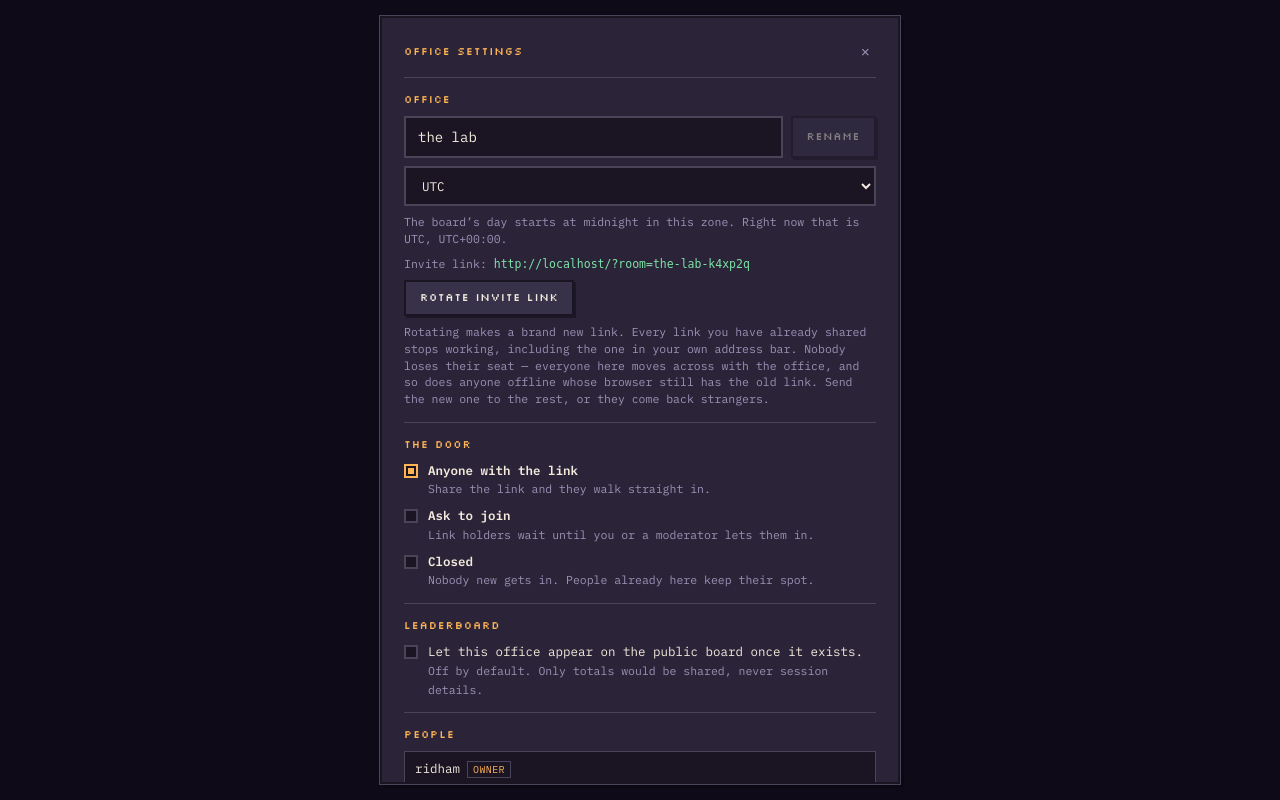
Test case: SettingsPanel › when the office says no › keeps a refusal in the section that asked, and out of the others
Step 1. Click the button "Rotate invite link" → click(489, 298), box x1=404 y1=280 x2=574 y2=316
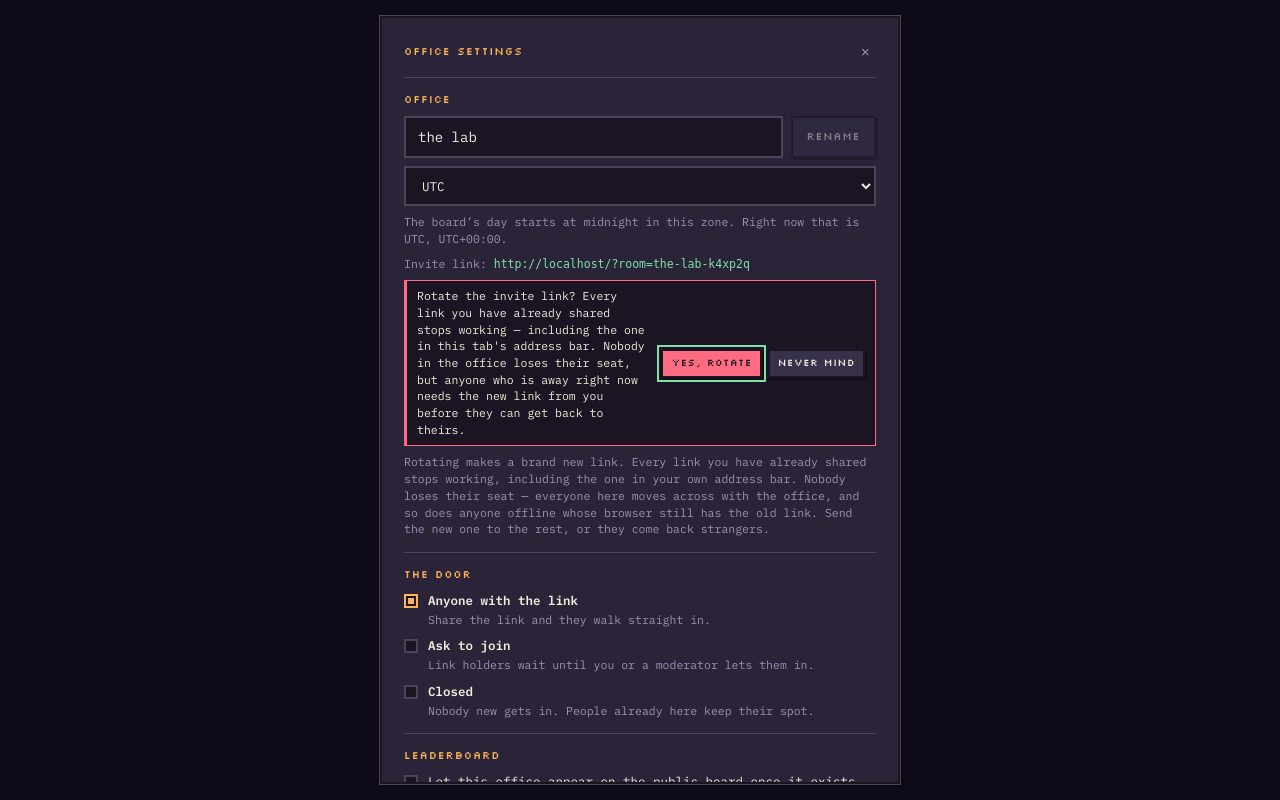
Step 2. Click the button "Yes, rotate" → click(712, 363), box x1=661 y1=349 x2=762 y2=378
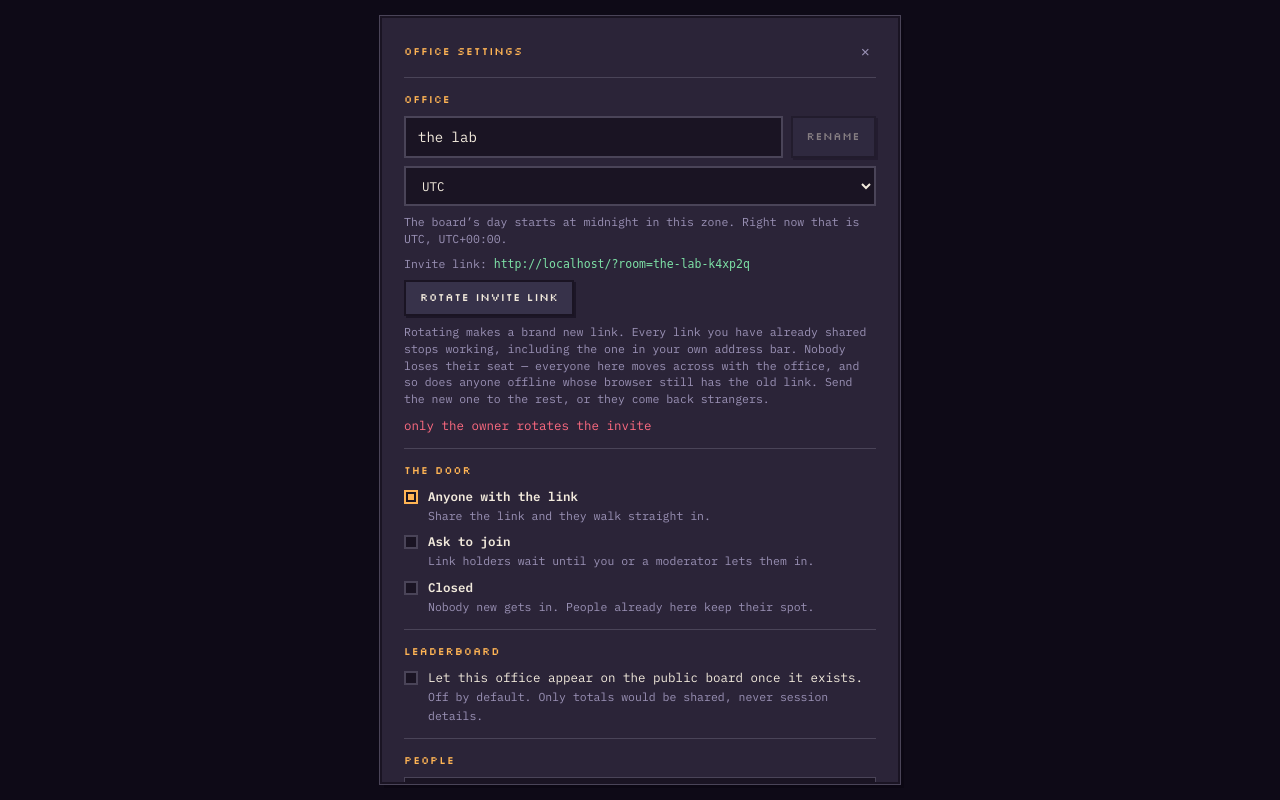
Expected: the element that starts with "Office" shows "Invite link:", x1=404 y1=77 x2=876 y2=448
Expected: the message reads "only the owner rotates the invite", x1=404 y1=417 x2=652 y2=433
Expected: the number of messages is 1, x1=404 y1=417 x2=652 y2=433
